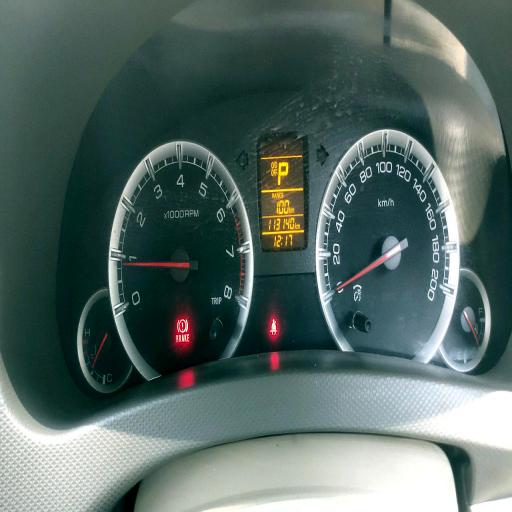belt: (270, 316, 278, 338)
brake_system_fault: (176, 318, 188, 333)
tachometer: (107, 141, 255, 378)
